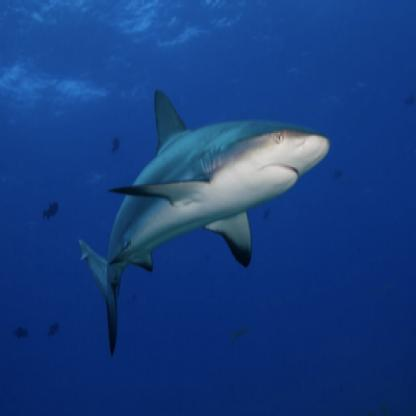Shark -Selachimorpha-: (76, 91, 333, 363)
